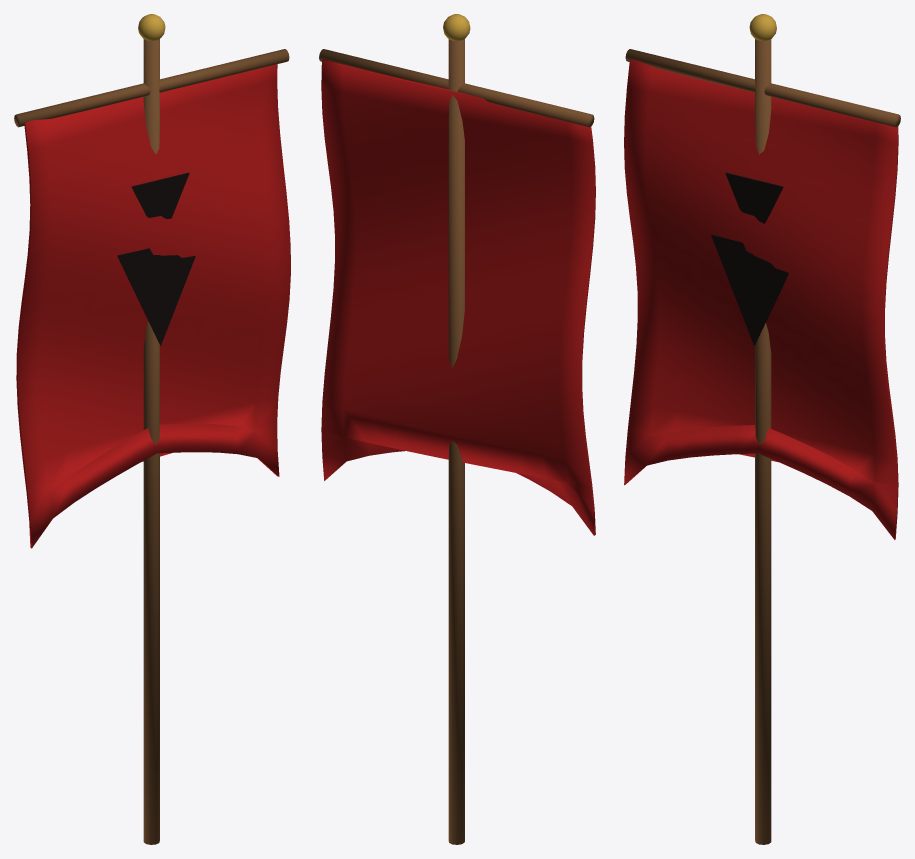
File: rotes_banner.glb
3 renders of one model, left to right at view 1: azimuth 30°, elevation 25°; view 2: azimuth 150°, elevation 25°; view 3: azimuth 330°, elevation 25°, orthographic.
Parts seen in each view (by area): view 1: Cone; view 2: Cone; view 3: Cone.
Part boxes in pixels (x1,y1,x2,y2): Cone: (14, 14, 290, 844); Cone: (319, 14, 595, 844); Cone: (624, 14, 900, 844).
Size of the model in its own units: 0.56 by 1.64 by 0.06.
